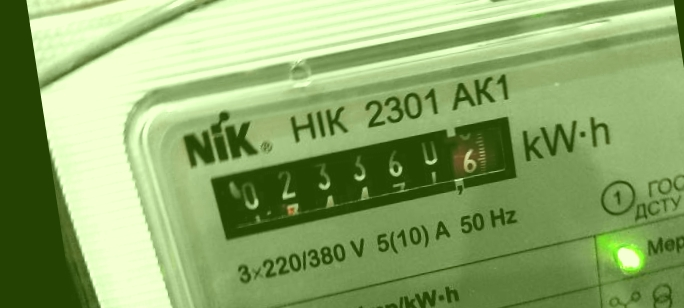0: (236, 175, 262, 212), (414, 134, 441, 168)
2: (273, 165, 298, 200)
3: (345, 147, 369, 182), (309, 158, 332, 192)
6: (380, 143, 406, 179), (456, 141, 482, 177)
screen: (189, 103, 538, 248)
